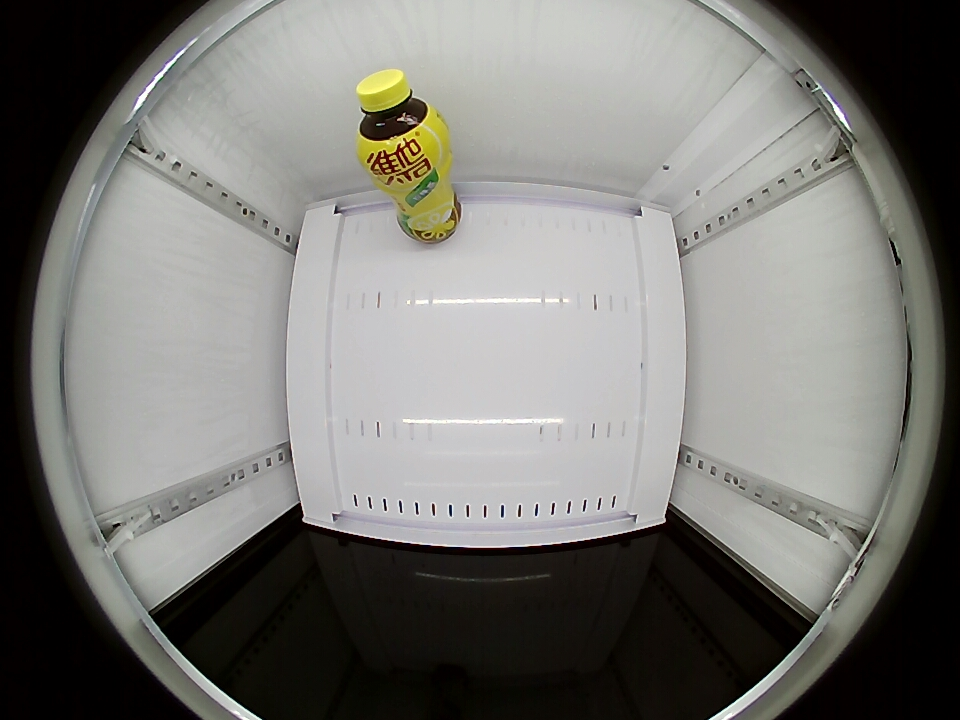weitaningmeng-bottle: (356, 69, 447, 171)
